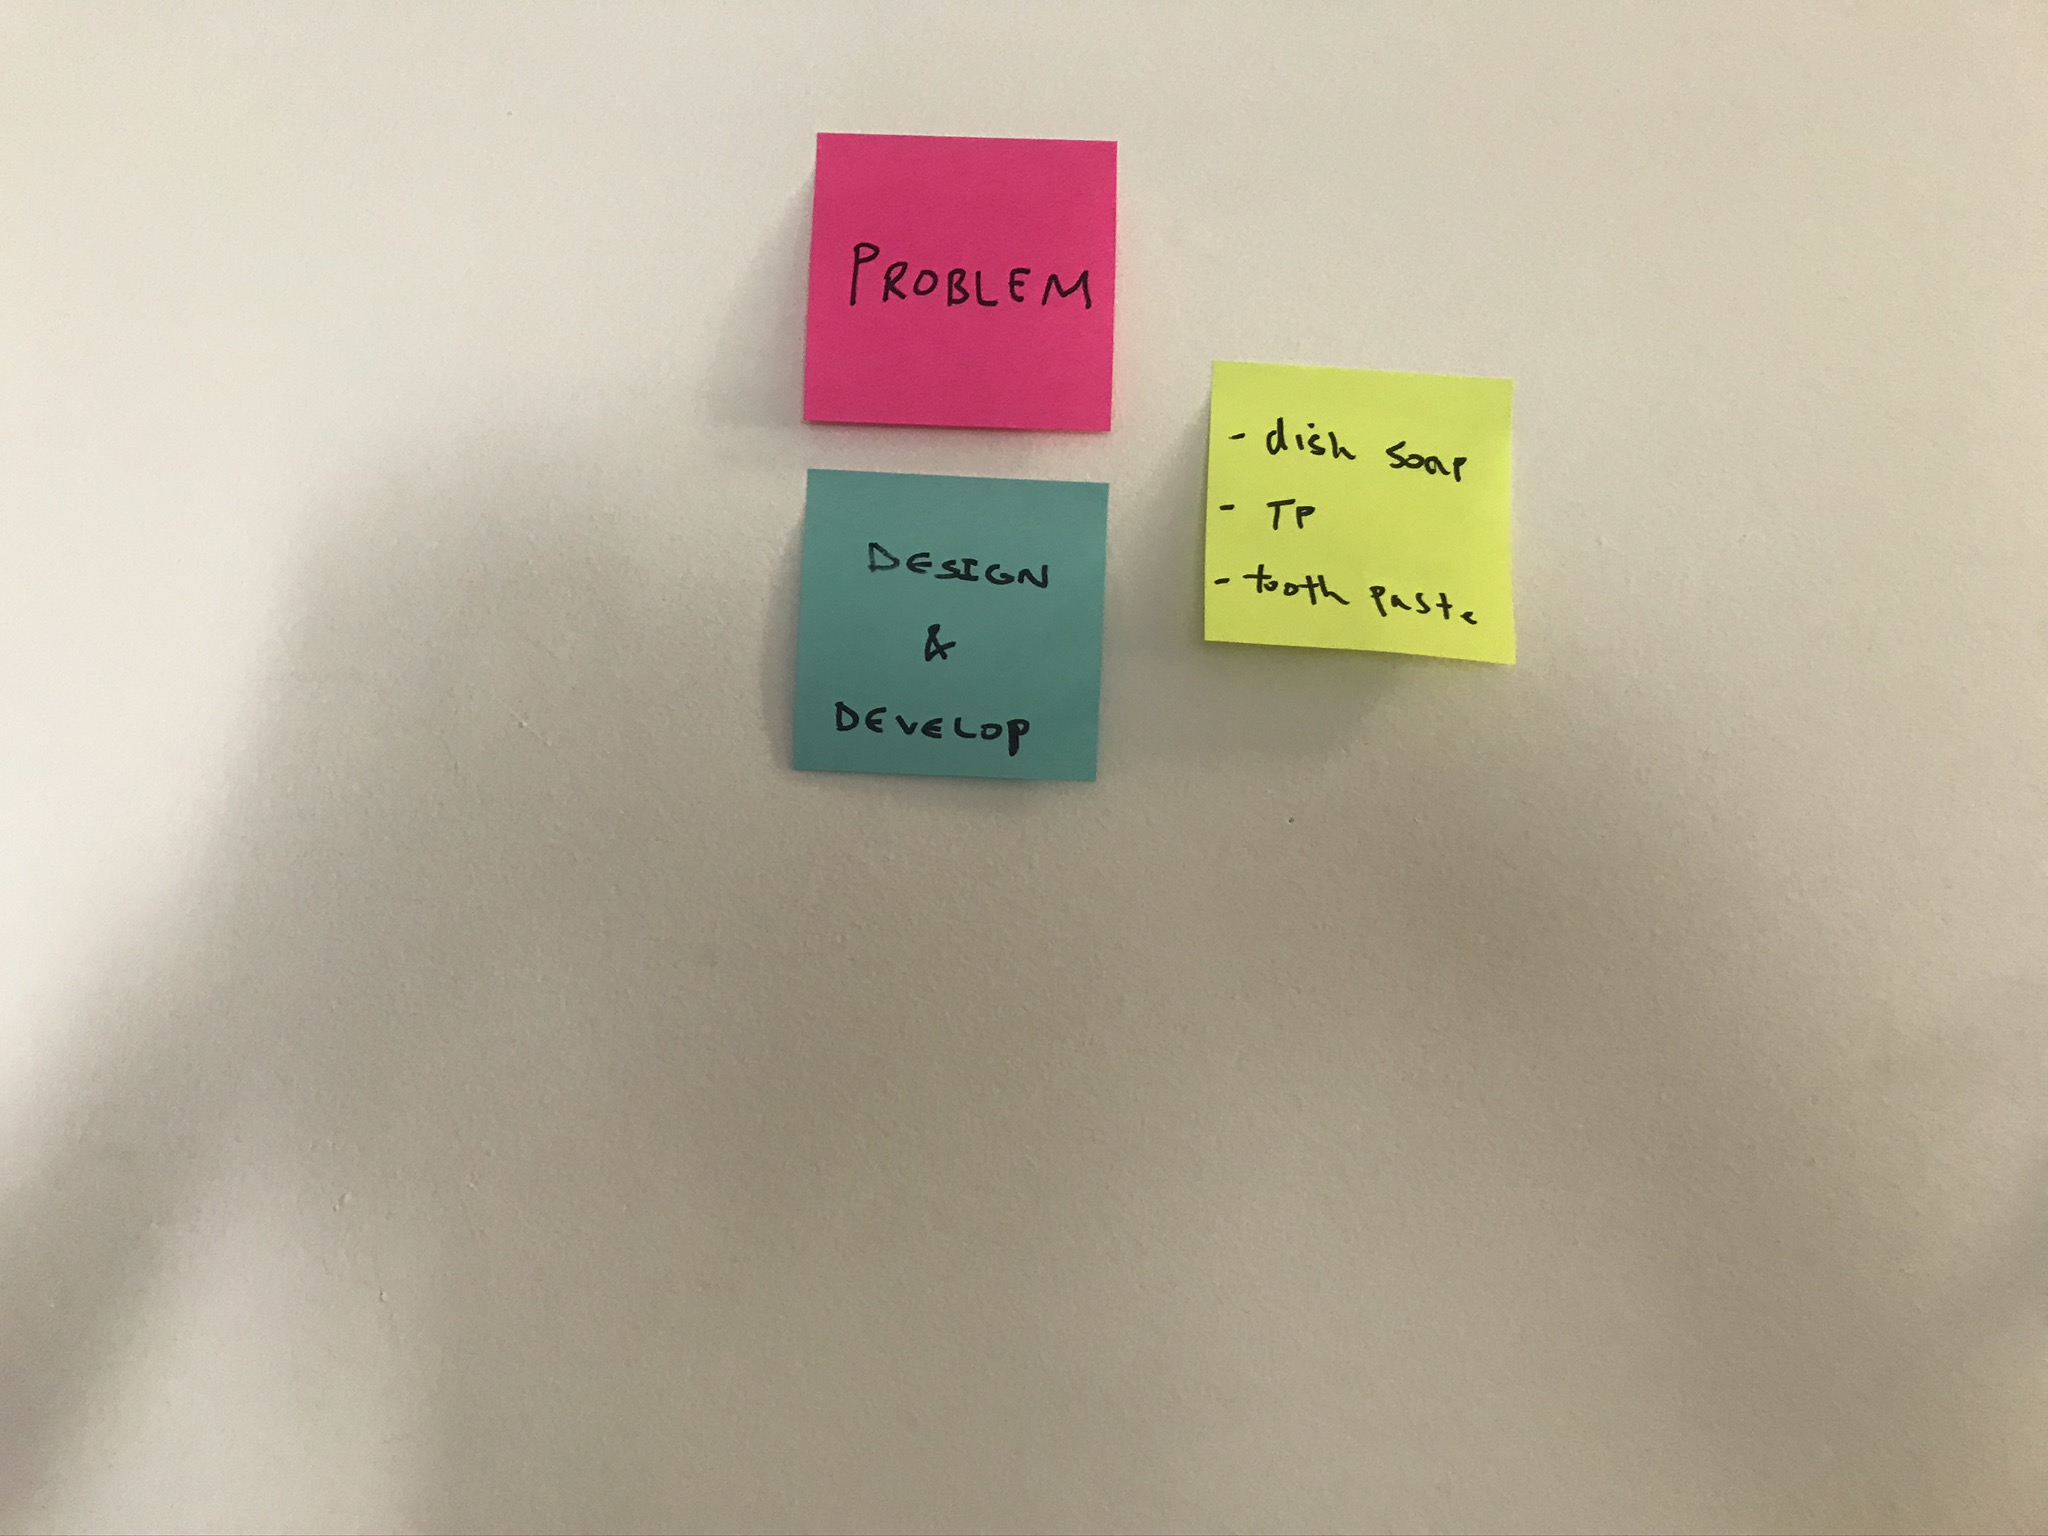sticky: (792, 465, 1109, 783), (1201, 353, 1522, 666), (801, 134, 1118, 436)
